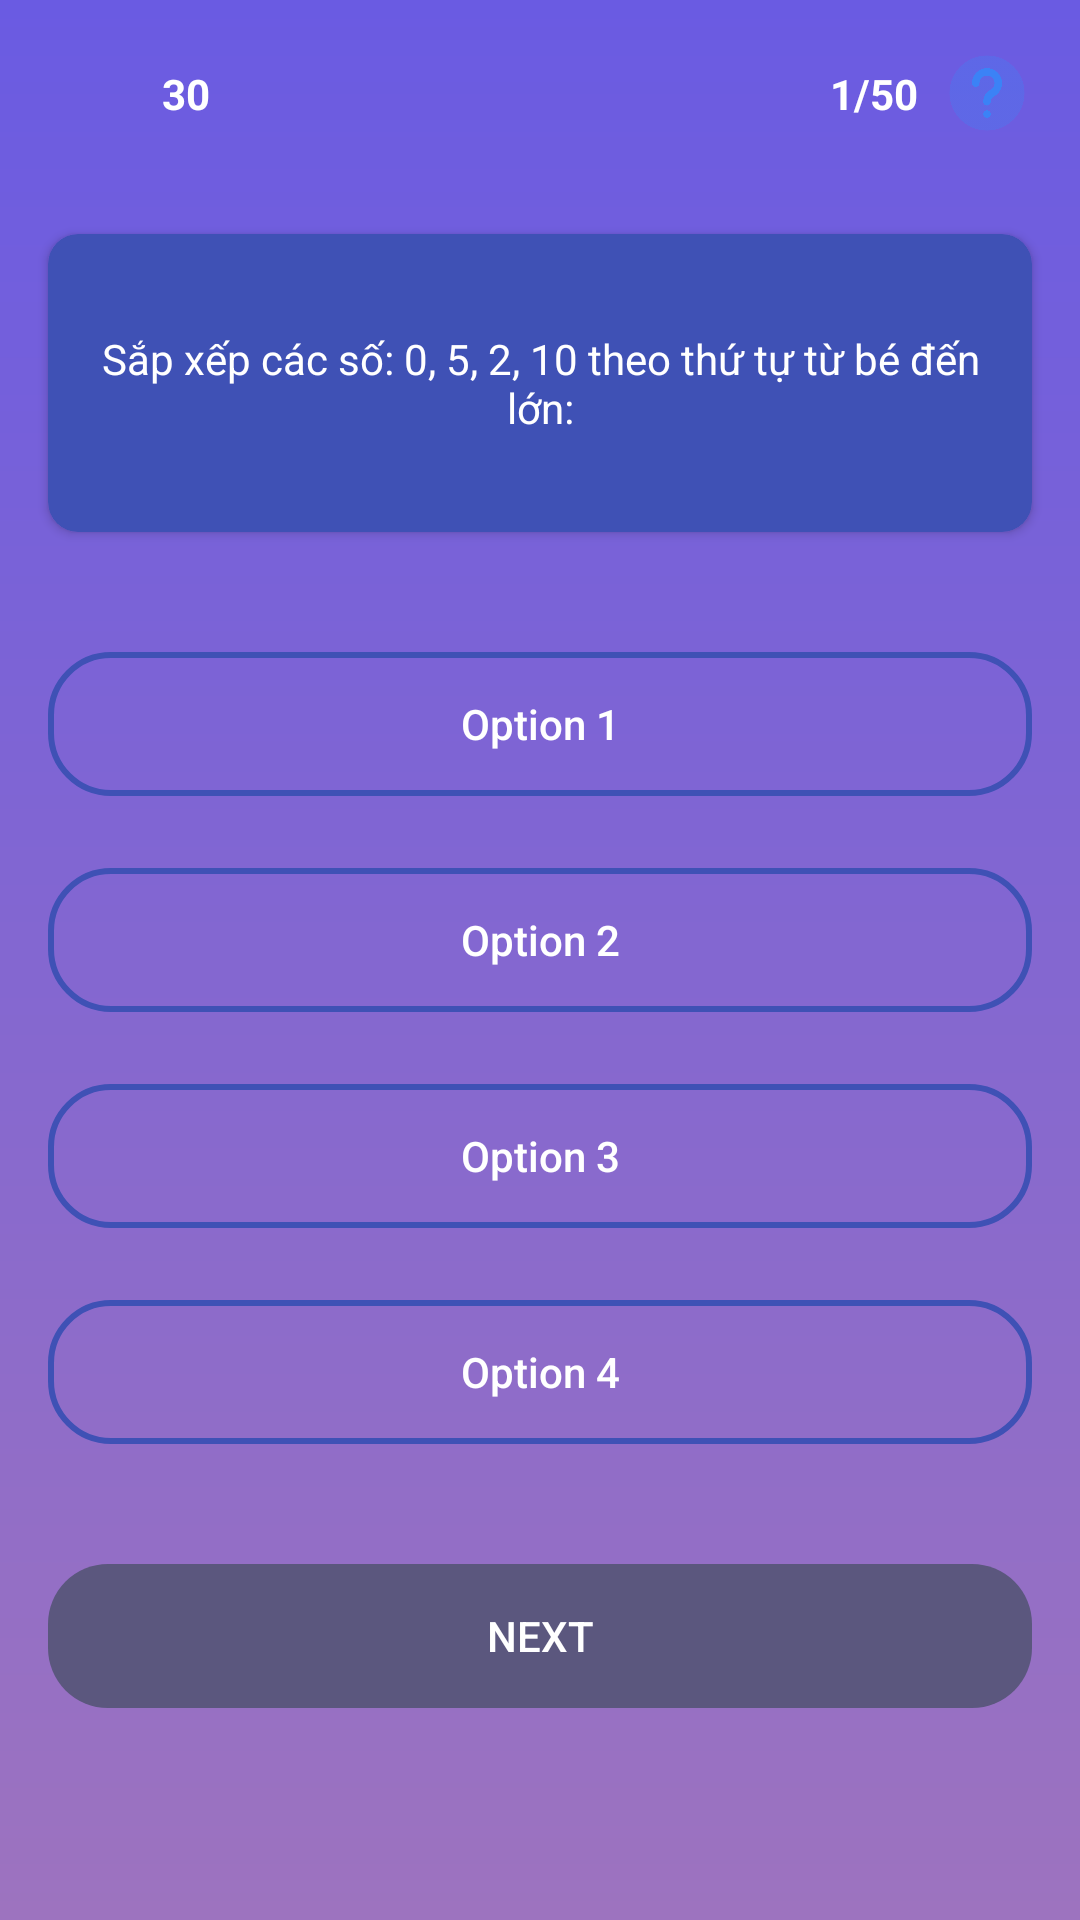

Screen size 1080*1920. Icon name, then its center in pixels as (x=x, y=y):
question: (x=987, y=93)
